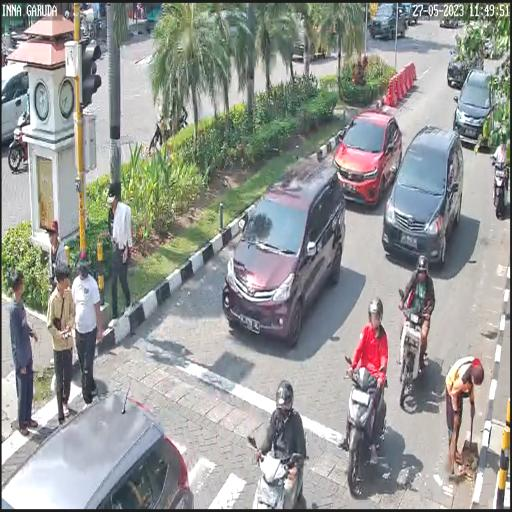mobil: (222, 162, 345, 346), (382, 122, 464, 268), (329, 101, 402, 212), (453, 67, 496, 150)
motor: (345, 355, 387, 497), (396, 286, 431, 408), (488, 154, 508, 221)
